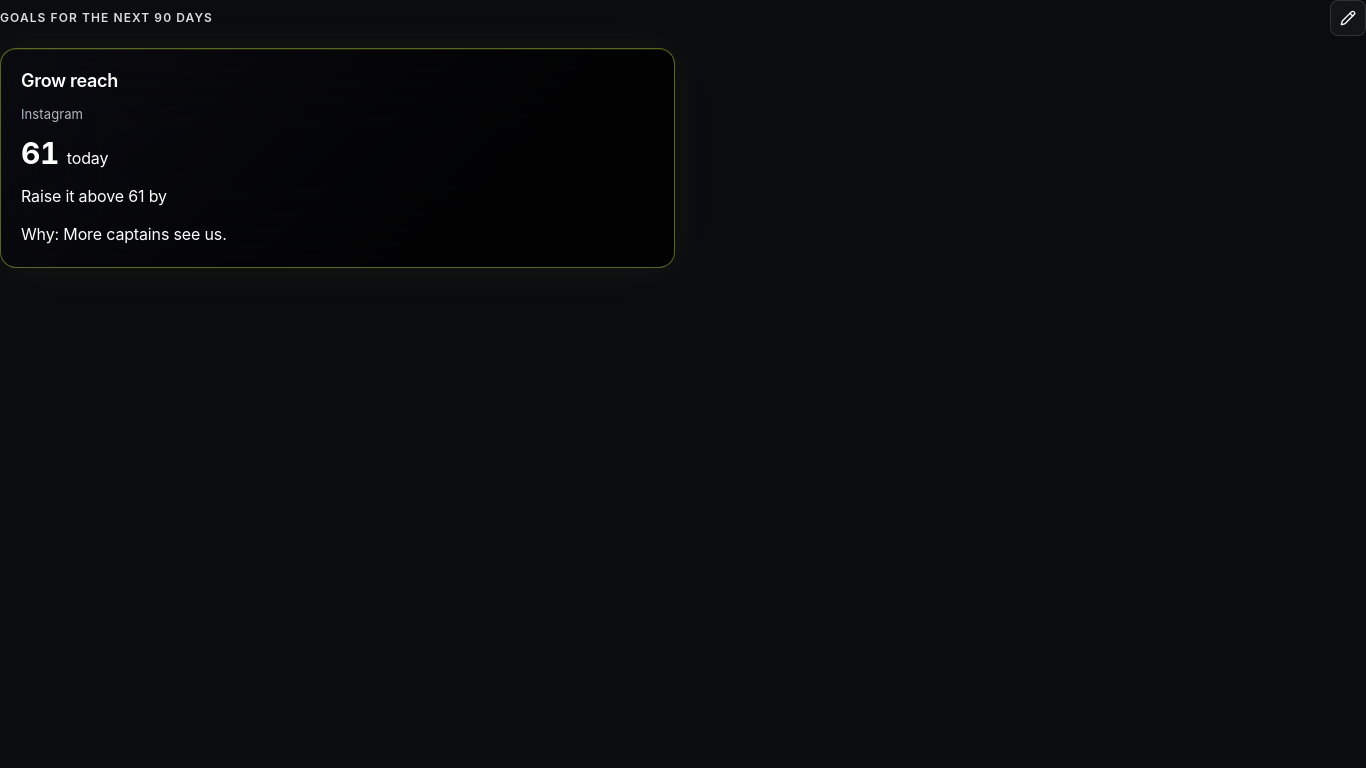
a person's edited goals › say only that numbers and dates stay current on a goals or platform card
Later steps or results of the test are not shown.
Click the button named "Edit the goals" at (1348, 18), box 1330,0 -> 1365,36
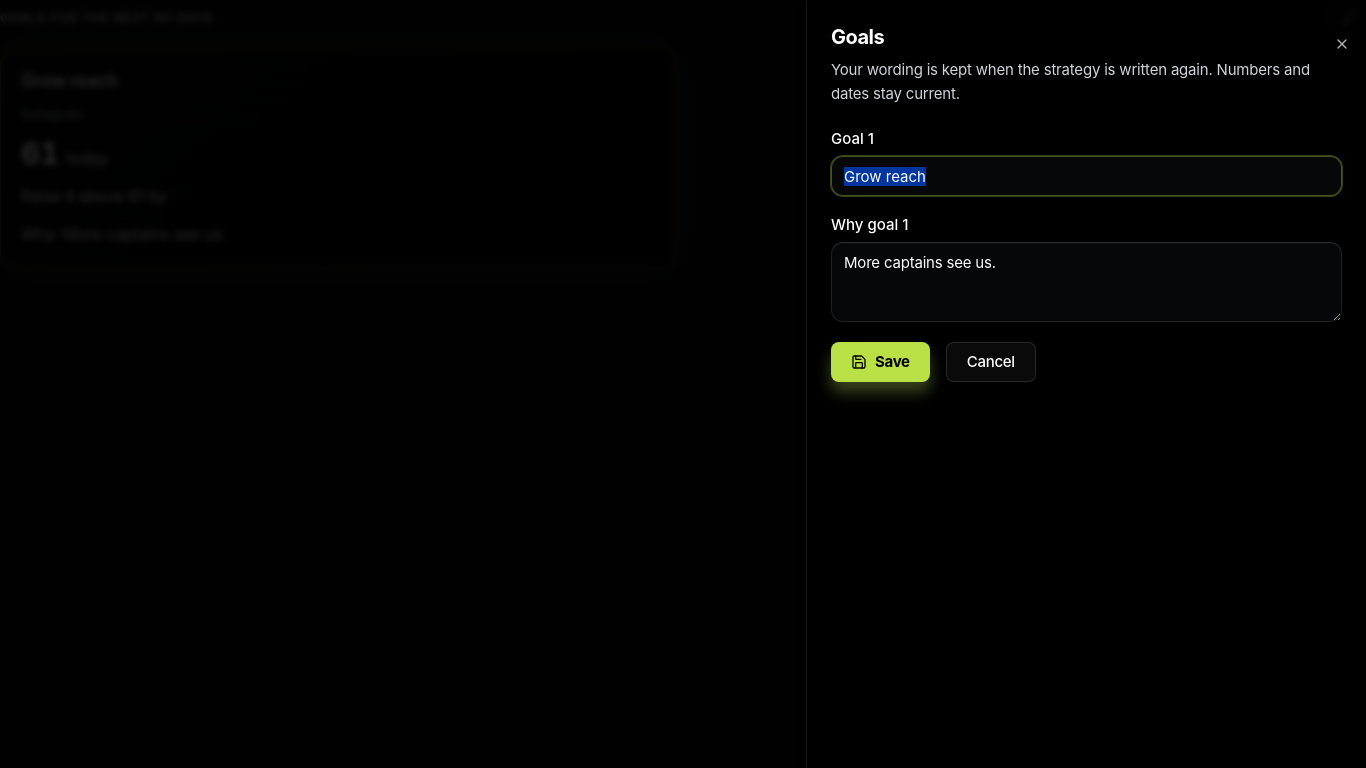
Result: the dialog shows "Numbers and dates stay current." at 831,60 -> 1310,103
